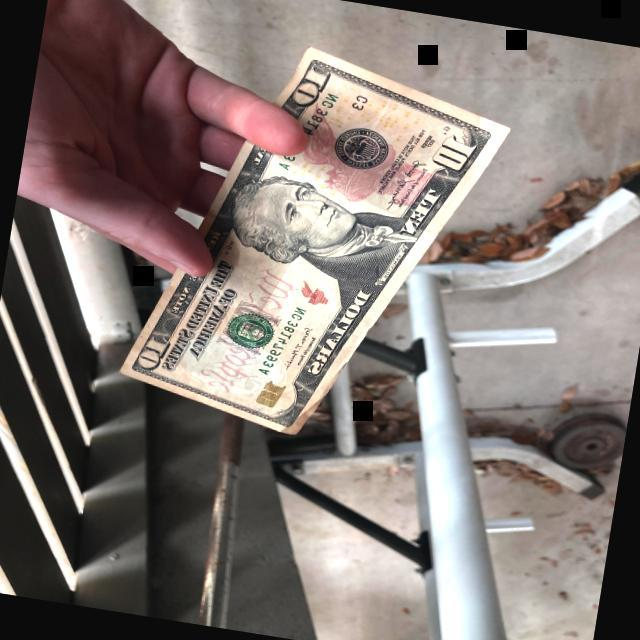ten: (119, 46, 513, 437)
